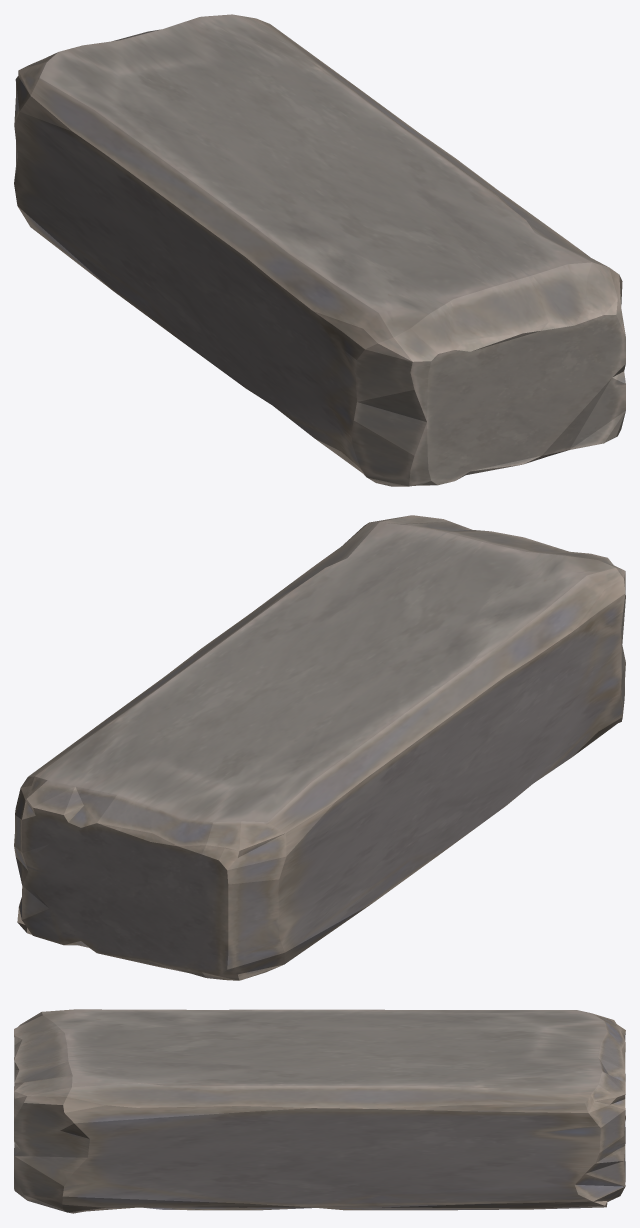
File: Ruined_Stair01.fbx
3 views of the same model, one above another, from view 1: azimuth 30°, elevation 25°; view 2: azimuth 150°, elevation 25°; view 3: azimuth 270°, elevation 25° (orthographic). The views are drawn at different scales.
Parts seen in each view (by area): view 1: Ruined_Cube_L2.003; view 2: Ruined_Cube_L2.003; view 3: Ruined_Cube_L2.003.
Part boxes in pixels (x1,y1,x2,y2): Ruined_Cube_L2.003: (14, 14, 625, 486); Ruined_Cube_L2.003: (14, 515, 625, 980); Ruined_Cube_L2.003: (14, 1009, 625, 1213).
Size of the model in its own units: 142 by 86.59 by 367.
1 material, 1 textured.
